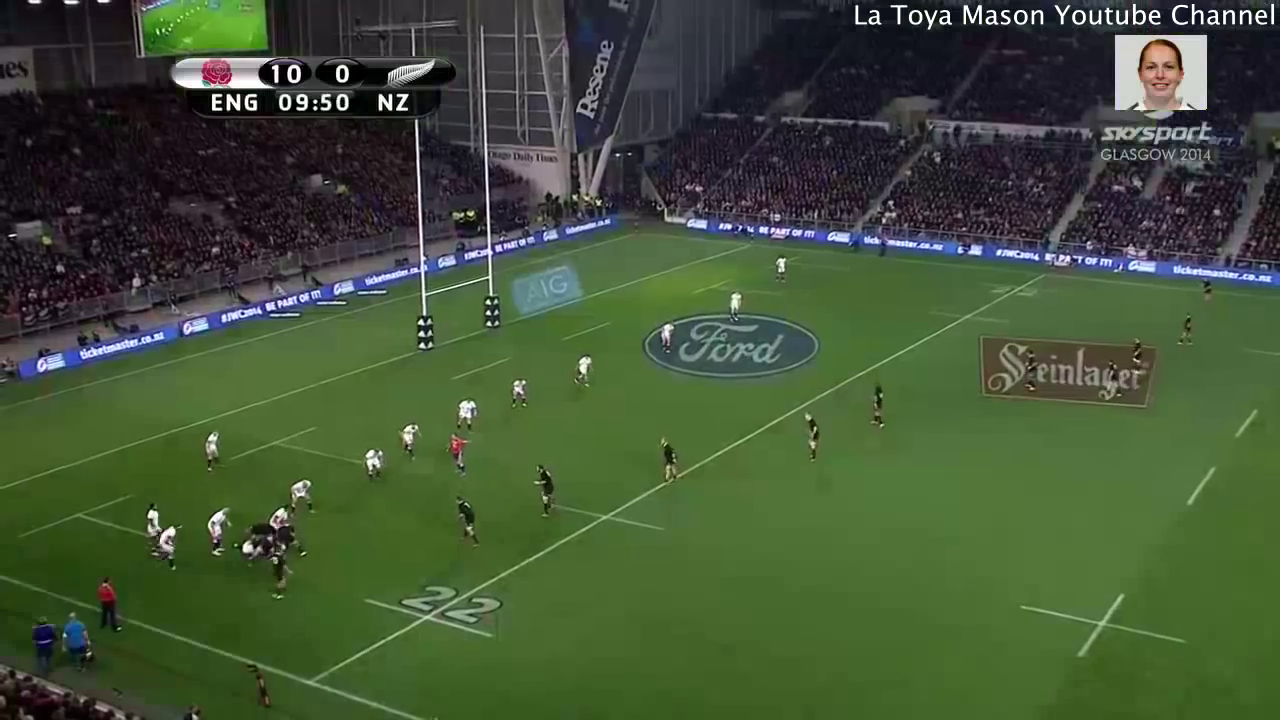10_metre: (1012, 584, 1197, 674)
player: (529, 460, 561, 526), (863, 377, 895, 442), (272, 518, 315, 564), (199, 503, 233, 561), (564, 344, 602, 394), (155, 514, 186, 572), (451, 494, 483, 549), (264, 545, 295, 599), (287, 473, 322, 519), (442, 431, 475, 479), (136, 499, 163, 556), (798, 405, 821, 466), (656, 432, 680, 488), (452, 393, 482, 436), (198, 426, 226, 472), (504, 374, 535, 414), (1173, 307, 1198, 352), (1100, 359, 1127, 400), (397, 421, 423, 463), (1127, 336, 1150, 382), (264, 500, 295, 534), (651, 316, 677, 356), (722, 284, 746, 325), (244, 522, 279, 550), (1022, 352, 1042, 396), (364, 445, 386, 481), (771, 250, 790, 287), (1197, 273, 1215, 304)
post: (406, 61, 505, 357)
